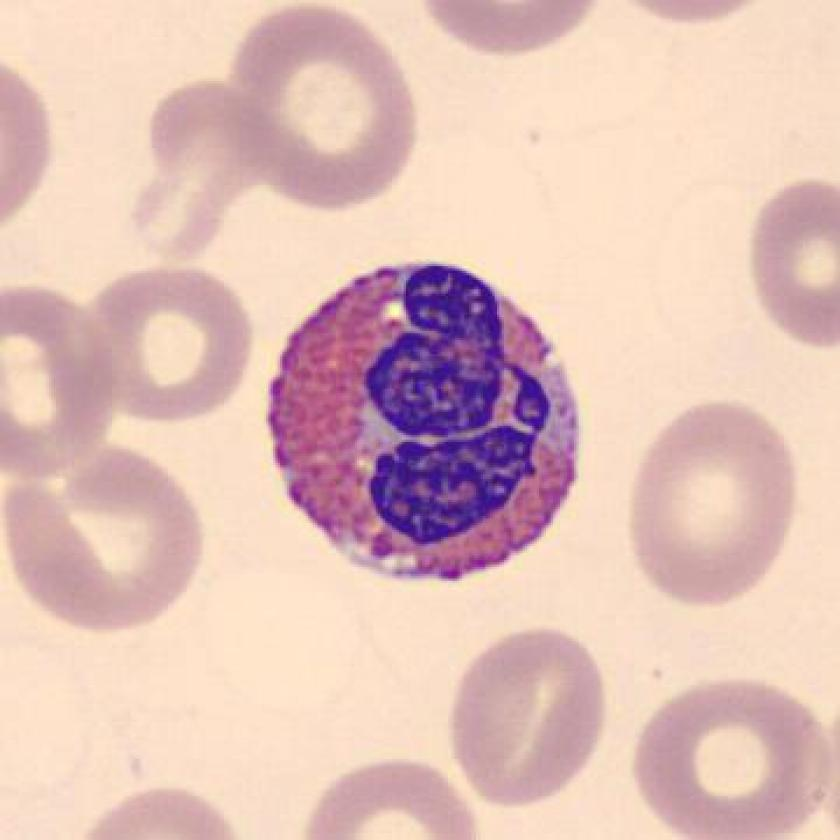eosinophil: (260, 253, 591, 591)
